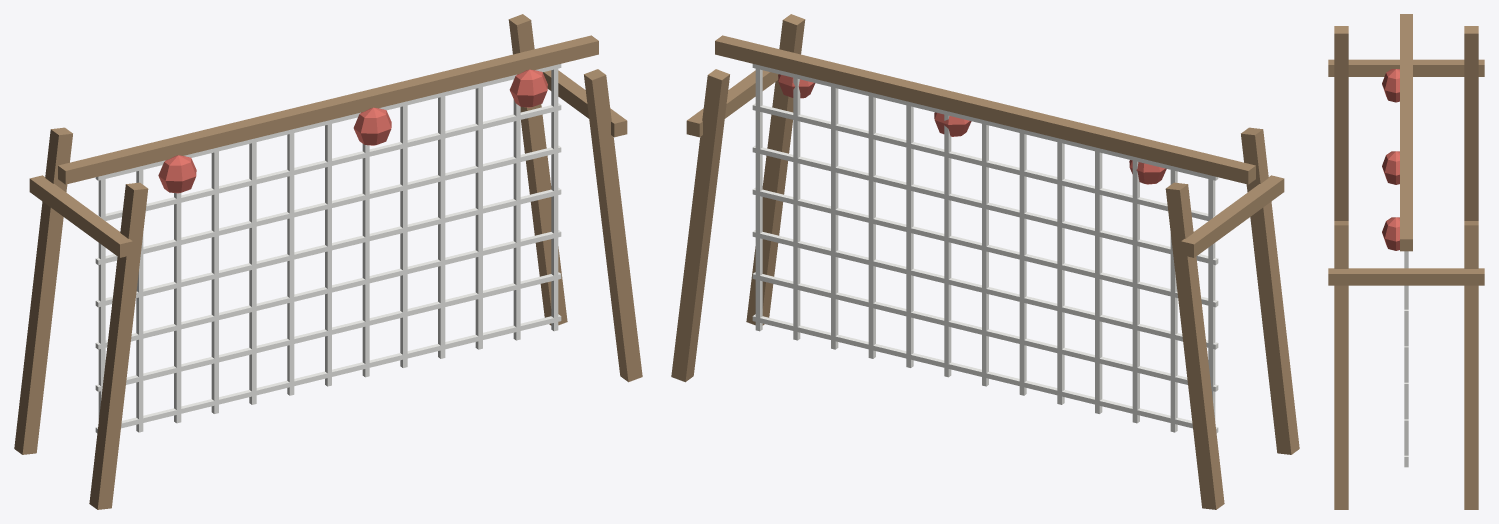
File: lighthouse-and-rocky-coast-fishing-net-frame-cca35673__36622.glb
The picture shows the model from 3 angles, left to right: view 1: azimuth 30°, elevation 25°; view 2: azimuth 150°, elevation 25°; view 3: azimuth 270°, elevation 25°; orthographic projection. The views are drawn at different scales.
Visible parts, largest first — view 1: fishing-net-frame; view 2: fishing-net-frame; view 3: fishing-net-frame.
Boxes of the visible parts, x1=… form: fishing-net-frame: x1=14, y1=14, x2=642, y2=509; fishing-net-frame: x1=671, y1=14, x2=1299, y2=509; fishing-net-frame: x1=1328, y1=14, x2=1484, y2=509.
Size of the model in its own units: 4.19 by 2.3 by 1.2.
